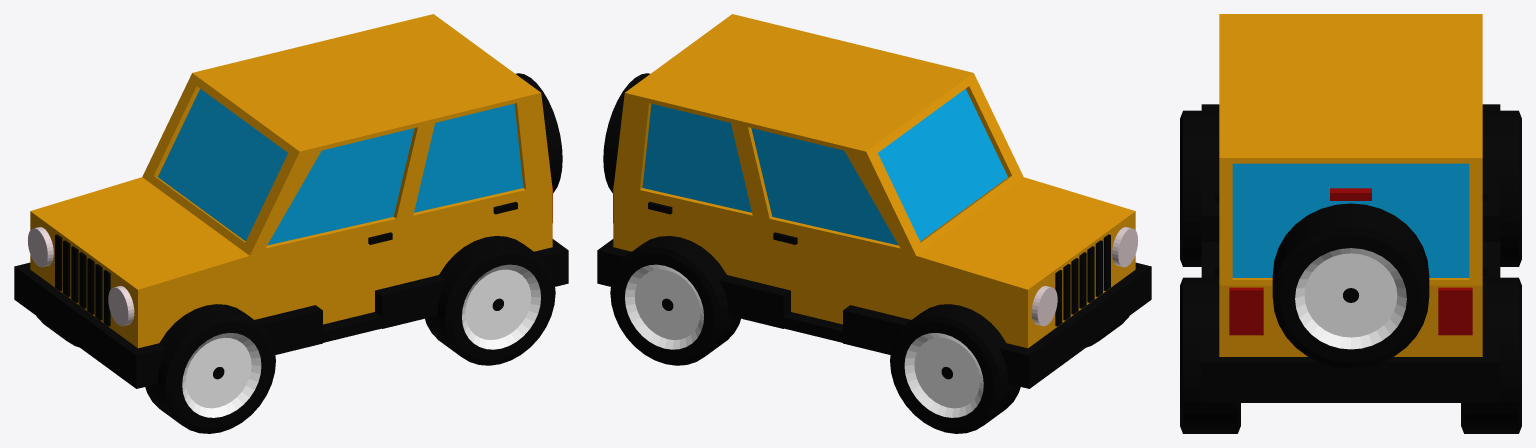
File: JeepV2.fbx
The picture shows the model from 3 angles, left to right: view 1: azimuth 30°, elevation 25°; view 2: azimuth 150°, elevation 25°; view 3: azimuth 270°, elevation 25°; orthographic projection. The views are drawn at different scales.
Parts seen in each view (by area): view 1: Base, Bumpers, BL, FL, Grills, Headlights, SpareTire; view 2: Base, Bumpers, BR, FR, Grills, Headlights, SpareTire; view 3: Base, SpareTire, Bumpers, BL, BR, FL, FR, Brakes, Handles.
Part boxes in pixels (x1,y1,x2,y2): Base: [30, 14, 552, 348]; Bumpers: [14, 239, 568, 388]; BL: [425, 236, 555, 365]; FL: [145, 304, 275, 433]; Grills: [55, 234, 110, 326]; Headlights: [28, 227, 134, 326]; SpareTire: [516, 73, 562, 192]; Base: [613, 14, 1135, 348]; Bumpers: [597, 239, 1151, 388]; BR: [610, 236, 740, 365]; FR: [890, 304, 1020, 433]; Grills: [1055, 234, 1110, 326]; Headlights: [1031, 227, 1137, 326]; SpareTire: [603, 73, 649, 192]; Base: [1219, 14, 1482, 356]; SpareTire: [1272, 203, 1429, 368]; Bumpers: [1201, 104, 1500, 402]; BL: [1180, 277, 1240, 433]; BR: [1461, 277, 1521, 433]; FL: [1180, 110, 1219, 266]; FR: [1482, 110, 1521, 266]; Brakes: [1229, 188, 1472, 335]; Handles: [1214, 180, 1487, 275].
Bounding box in the file's own units: 491 × 253 × 260.
